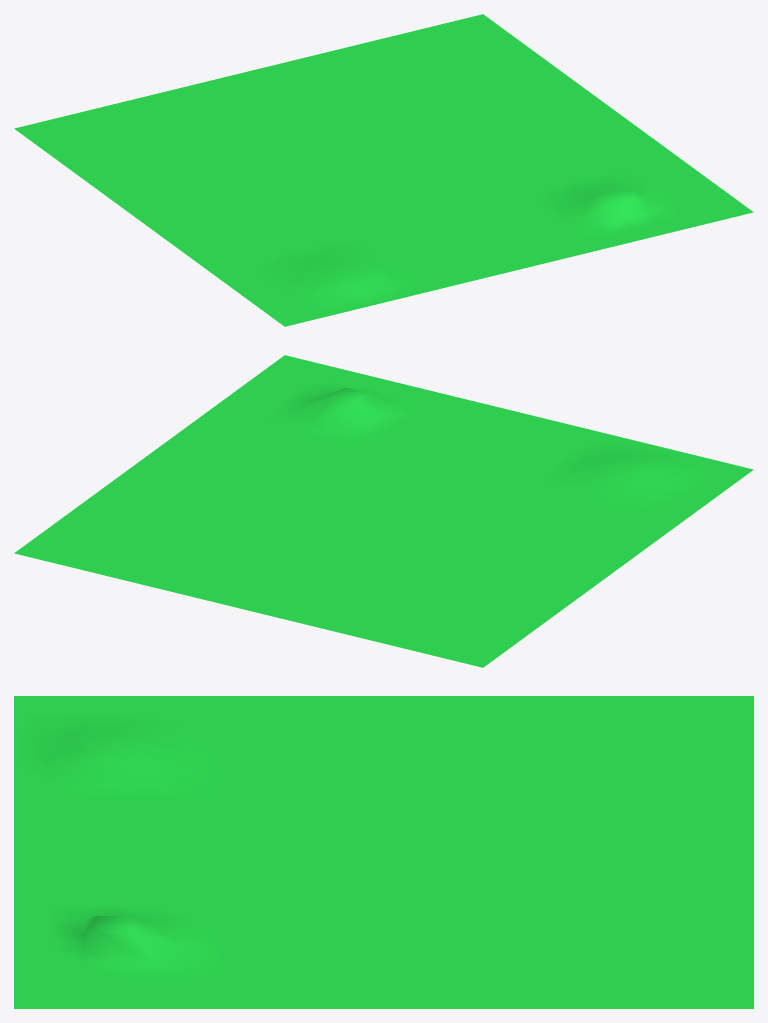
3 views of the same model, one above another, from view 1: azimuth 30°, elevation 25°; view 2: azimuth 150°, elevation 25°; view 3: azimuth 270°, elevation 25° (orthographic). The views are drawn at different scales.
Visible parts, largest first — view 1: 平面; view 2: 平面; view 3: 平面.
Boxes of the visible parts, x1,y1,x2,y2 form: 平面: (14,14,753,326); 平面: (14,355,753,667); 平面: (14,696,753,1008).
Bounding box in the file's own units: 76.07 × 1.91 × 76.07.
